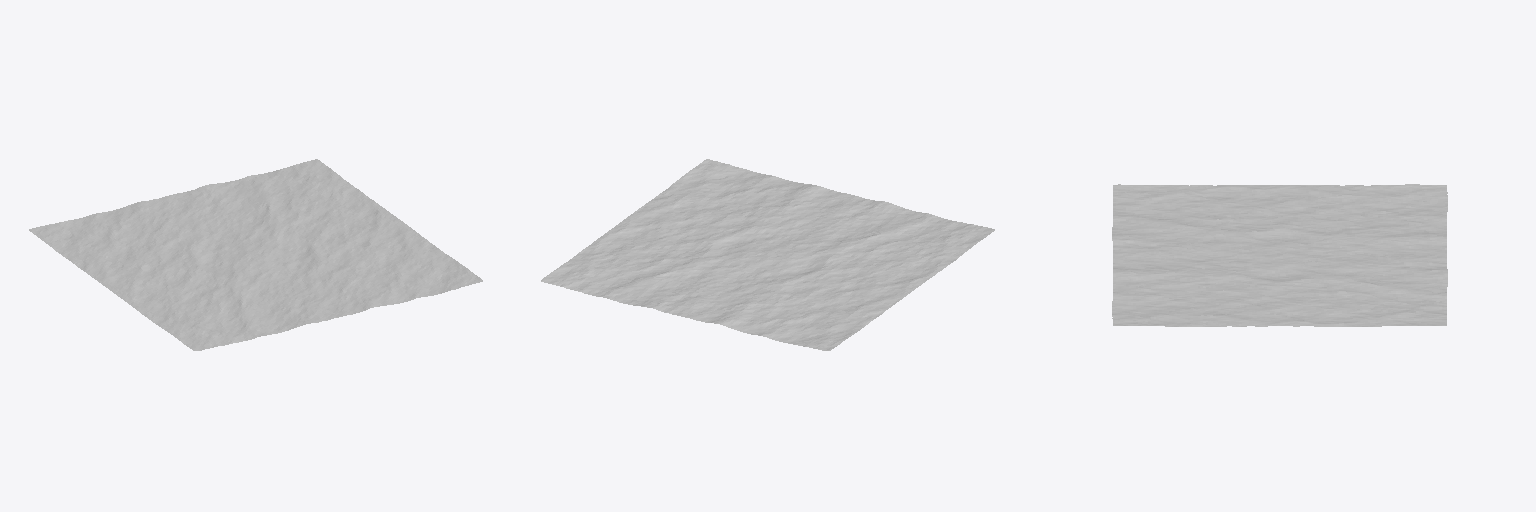
File: sea_000020.obj
3 views of the same model, side by side, from view 1: azimuth 30°, elevation 25°; view 2: azimuth 150°, elevation 25°; view 3: azimuth 270°, elevation 25° (orthographic).
Parts seen in each view (by area): view 1: Plane; view 2: Plane; view 3: Plane.
Boxes of the visible parts, x1=… form: Plane: x1=29, y1=159, x2=482, y2=350; Plane: x1=541, y1=159, x2=994, y2=350; Plane: x1=1112, y1=184, x2=1447, y2=326.
Bounding box in the file's own units: 201 × 1.9 × 201.